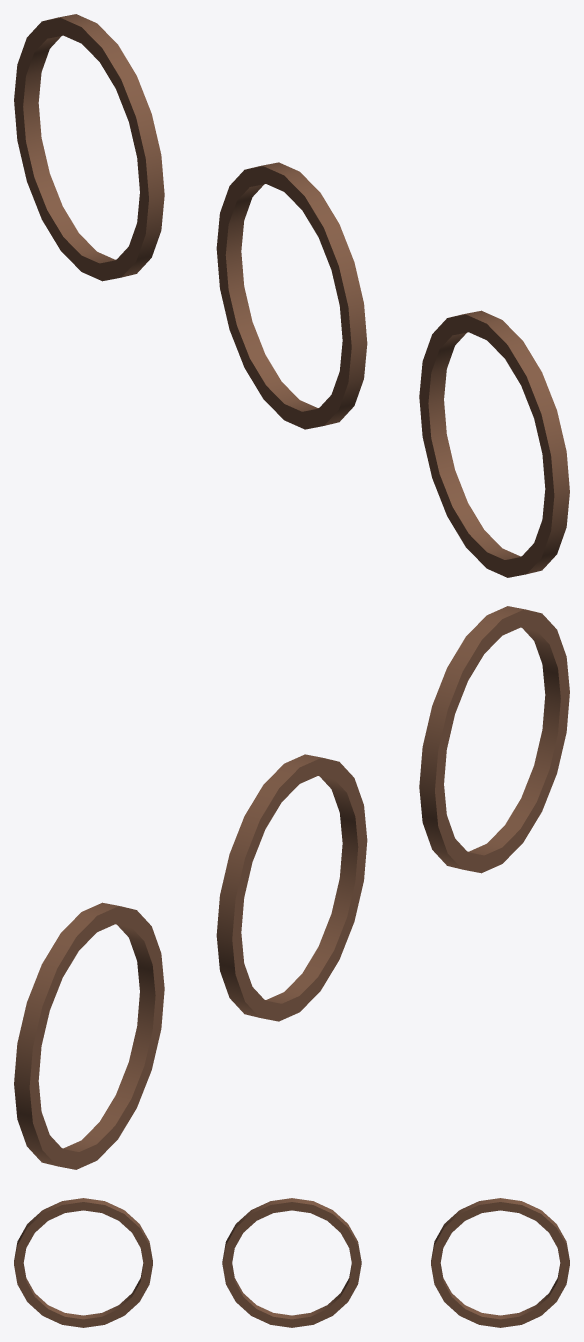
The model's file is Temple_circles.fbx.
3 views of the same model, one above another, from view 1: azimuth 30°, elevation 25°; view 2: azimuth 150°, elevation 25°; view 3: azimuth 270°, elevation 25° (orthographic). The views are drawn at different scales.
Visible parts, largest first — view 1: Circle.001; view 2: Circle.001; view 3: Circle.001.
Boxes of the visible parts, box(x1,y1,x2,y2) form: Circle.001: box(14, 14, 569, 577); Circle.001: box(14, 606, 569, 1169); Circle.001: box(14, 1198, 569, 1327).
Bounding box in the file's own units: 0.2 × 3 × 12.
